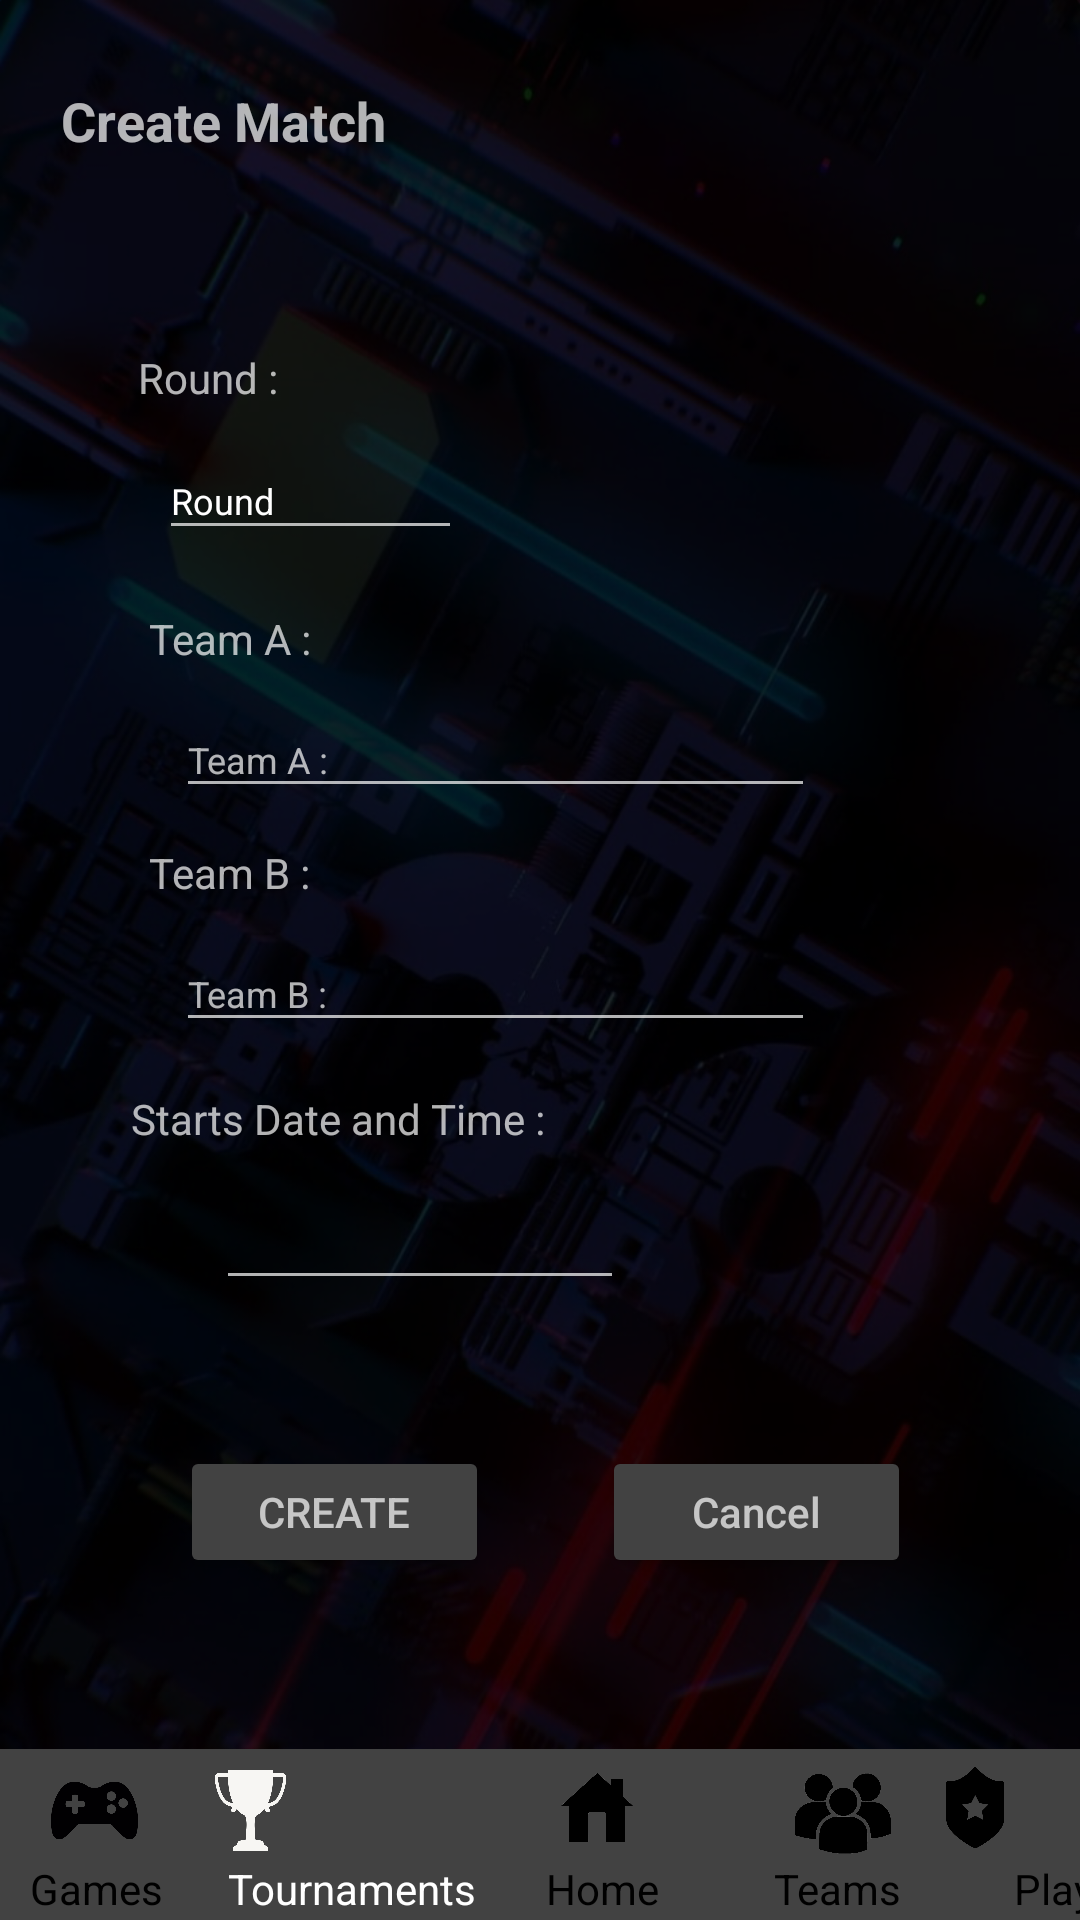

Icon bounding boxes for this 1080×1920 phone screenshot, format [x1=x1, y1=y1, x2=x2, y2=y2]:
console: [x1=51, y1=1782, x2=138, y2=1839]
cupwhite: [x1=215, y1=1770, x2=286, y2=1851]
rank: [x1=946, y1=1767, x2=1004, y2=1848]
